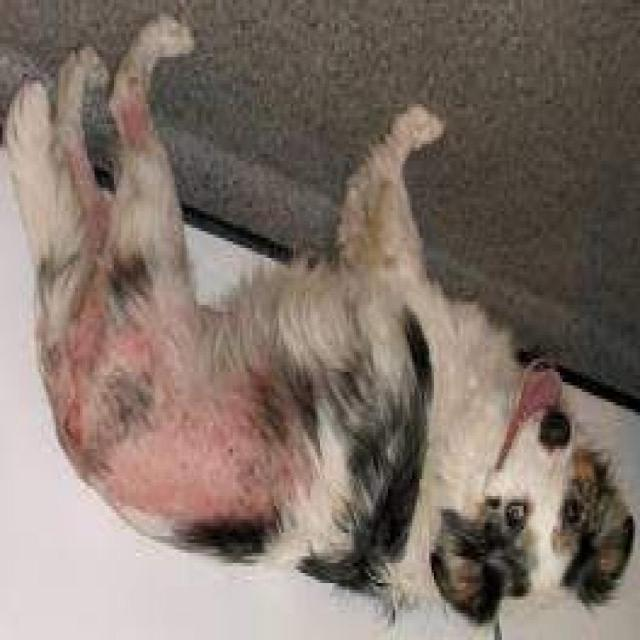allergic dermatitis: (89, 363, 313, 545), (56, 242, 168, 453)
